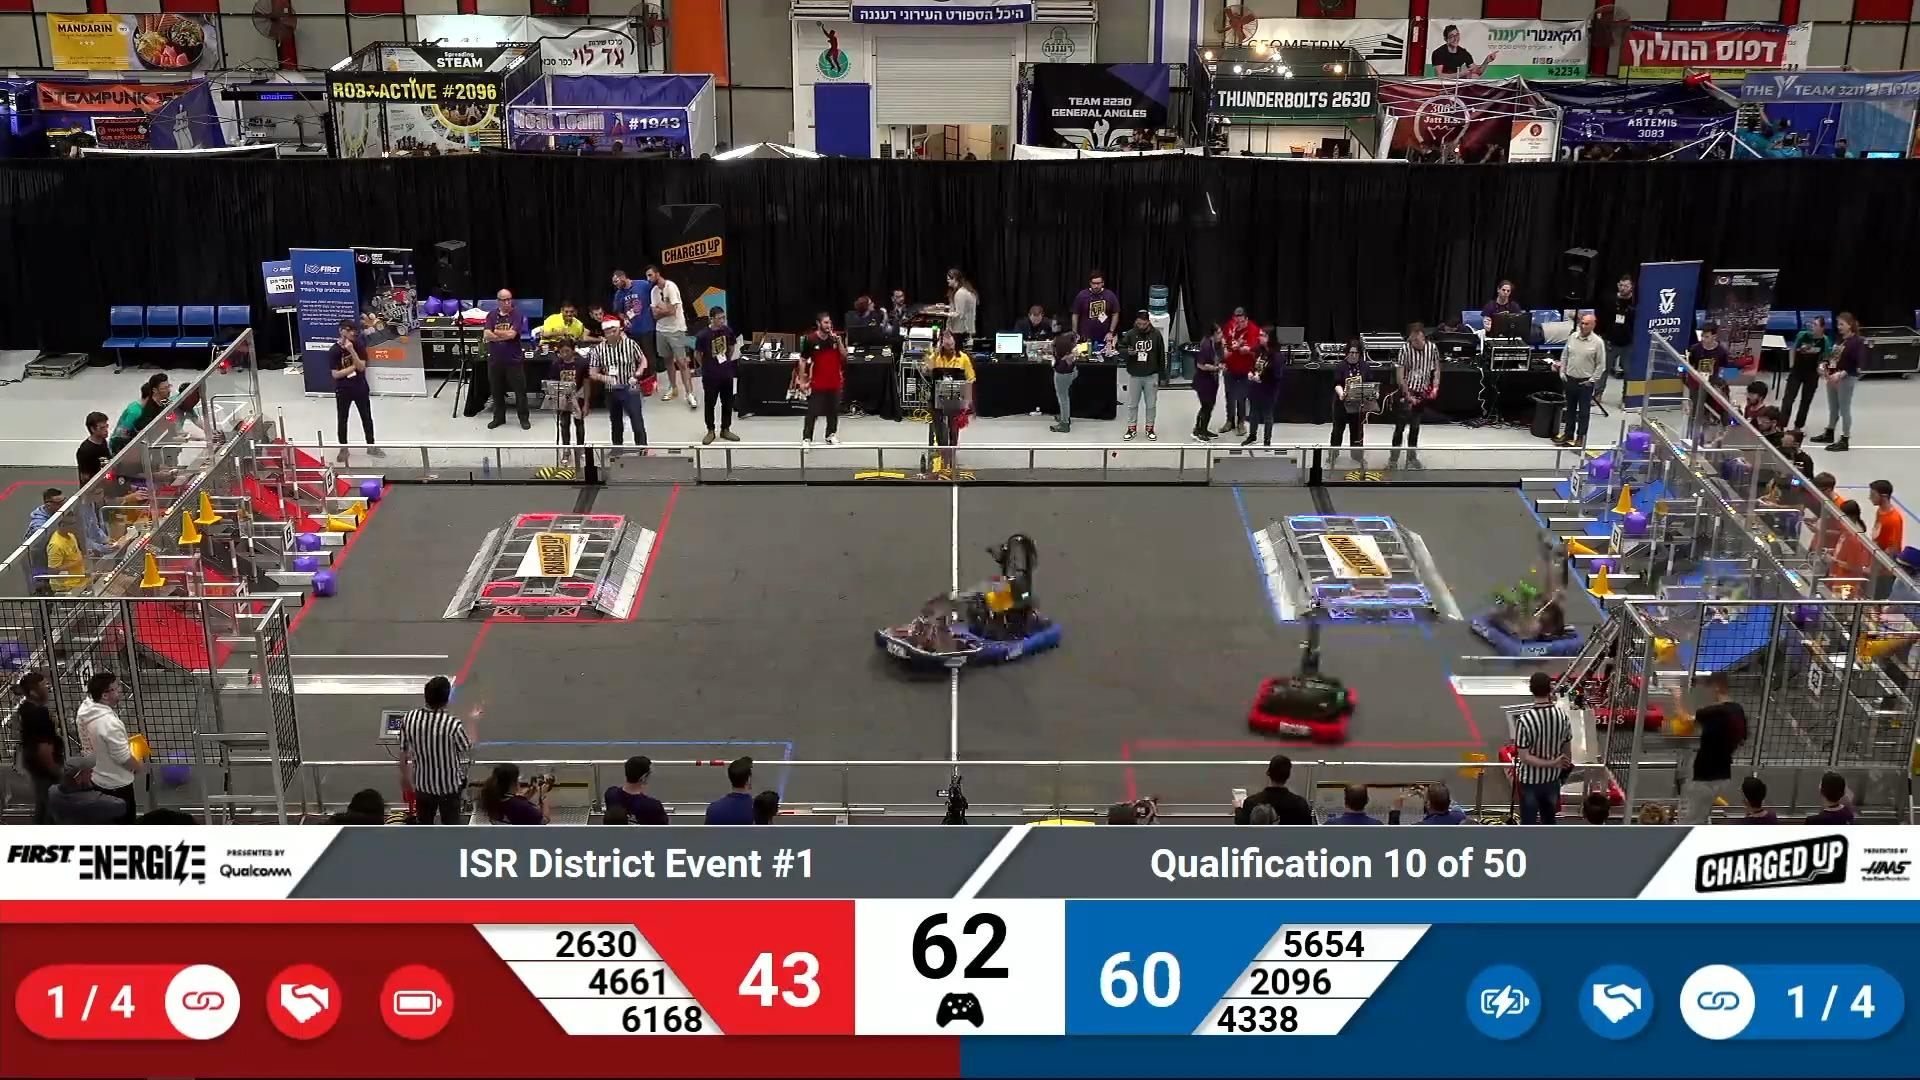robot: (1245, 650, 1367, 742), (1487, 731, 1626, 810), (1472, 572, 1584, 669), (956, 568, 1064, 667), (1557, 644, 1669, 728), (874, 596, 988, 675)
